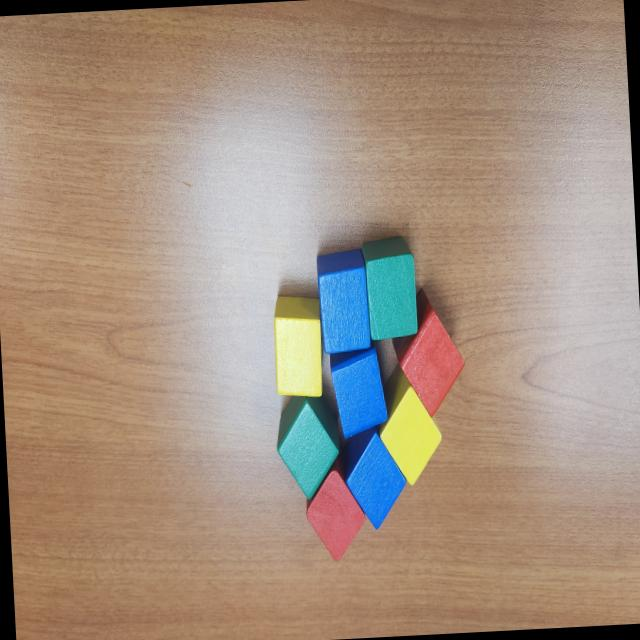blue: (340, 425, 410, 532), (323, 344, 389, 448), (316, 247, 371, 355)
green: (272, 392, 344, 503), (362, 236, 419, 342)
red: (391, 285, 467, 420), (304, 455, 368, 562)
yellow: (375, 360, 445, 488), (271, 294, 325, 397)
